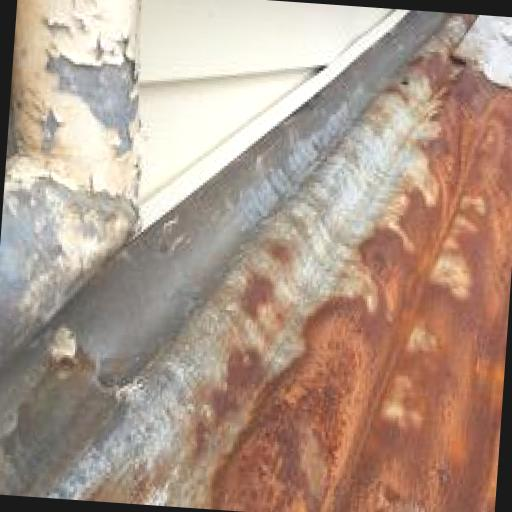corrosion: (89, 330, 278, 512)
